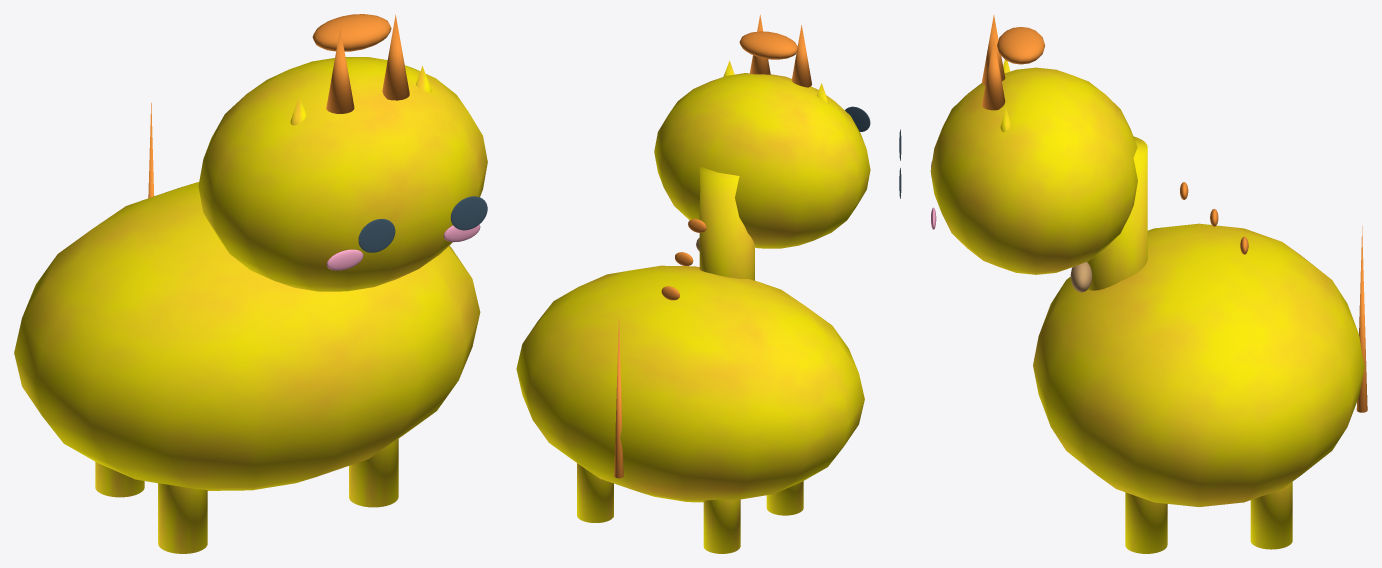
File: kirin.glb
3 views of the same model, side by side, from view 1: azimuth 30°, elevation 25°; view 2: azimuth 150°, elevation 25°; view 3: azimuth 270°, elevation 25° (orthographic). The views are drawn at different scales.
Parts seen in each view (by area): view 1: Giraffe_body_0, Giraffe_body_2, Giraffe_cylinder_22, Giraffe_cylinder_21, Giraffe_body_31, Giraffe_horn_R_26, Giraffe_horn_L_25, Giraffe_cylinder_24, Giraffe_eye_L_4, Giraffe_eye_R_5, Giraffe_body_R_7; view 2: Giraffe_body_0, Giraffe_body_2, Giraffe_cylinder_1, Giraffe_cylinder_24, Giraffe_cylinder_23, Giraffe_body_31, Giraffe_cylinder_22, Giraffe_tail_12, Giraffe_horn_R_26; view 3: Giraffe_body_0, Giraffe_body_2, Giraffe_cylinder_1, Giraffe_cylinder_23, Giraffe_cylinder_21, Giraffe_body_31, Giraffe_horn_L_25, Giraffe_tail_12.
Boxes of the visible parts, <box> form: Giraffe_body_0: <box>14,182,480,490</box>; Giraffe_body_2: <box>198,57,487,291</box>; Giraffe_cylinder_22: <box>158,483,207,553</box>; Giraffe_cylinder_21: <box>349,439,398,507</box>; Giraffe_body_31: <box>312,14,391,51</box>; Giraffe_horn_R_26: <box>326,28,354,113</box>; Giraffe_horn_L_25: <box>382,15,409,100</box>; Giraffe_cylinder_24: <box>95,462,144,497</box>; Giraffe_eye_L_4: <box>450,196,487,230</box>; Giraffe_eye_R_5: <box>358,219,395,252</box>; Giraffe_body_R_7: <box>326,249,363,270</box>; Giraffe_body_0: <box>516,265,864,502</box>; Giraffe_body_2: <box>654,73,870,248</box>; Giraffe_cylinder_1: <box>699,166,754,280</box>; Giraffe_cylinder_24: <box>703,499,740,553</box>; Giraffe_cylinder_23: <box>577,463,613,522</box>; Giraffe_body_31: <box>739,31,798,59</box>; Giraffe_cylinder_22: <box>766,481,803,515</box>; Giraffe_tail_12: <box>614,319,623,478</box>; Giraffe_horn_R_26: <box>791,25,811,87</box>; Giraffe_body_0: <box>1033,223,1364,506</box>; Giraffe_body_2: <box>930,67,1137,274</box>; Giraffe_cylinder_1: <box>1087,136,1147,290</box>; Giraffe_cylinder_23: <box>1250,482,1292,549</box>; Giraffe_cylinder_21: <box>1125,492,1167,553</box>; Giraffe_body_31: <box>997,27,1045,64</box>; Giraffe_horn_L_25: <box>982,38,1005,110</box>; Giraffe_tail_12: <box>1356,226,1367,412</box>.
Bounding box in the file's own units: 3.03 × 3.86 × 3.41.
Materials: 12 (2 with a texture image).
